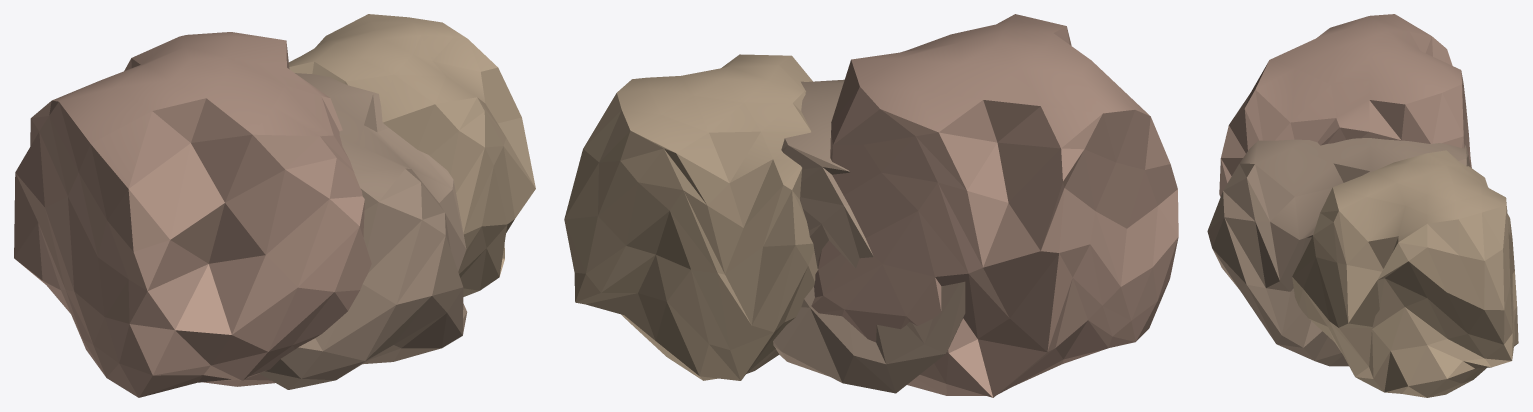
Rendered from Granit_4.fbx.
3 views of the same model, side by side, from view 1: azimuth 30°, elevation 25°; view 2: azimuth 150°, elevation 25°; view 3: azimuth 270°, elevation 25° (orthographic). The views are drawn at different scales.
Visible parts, largest first — view 1: Granit_4; view 2: Granit_4; view 3: Granit_4.
Part boxes in pixels (left/top/right/bottom): Granit_4: left=14, top=14, right=535, bottom=397; Granit_4: left=564, top=14, right=1178, bottom=397; Granit_4: left=1207, top=14, right=1518, bottom=397.
Bounding box in the file's own units: 179 × 123 × 135.
